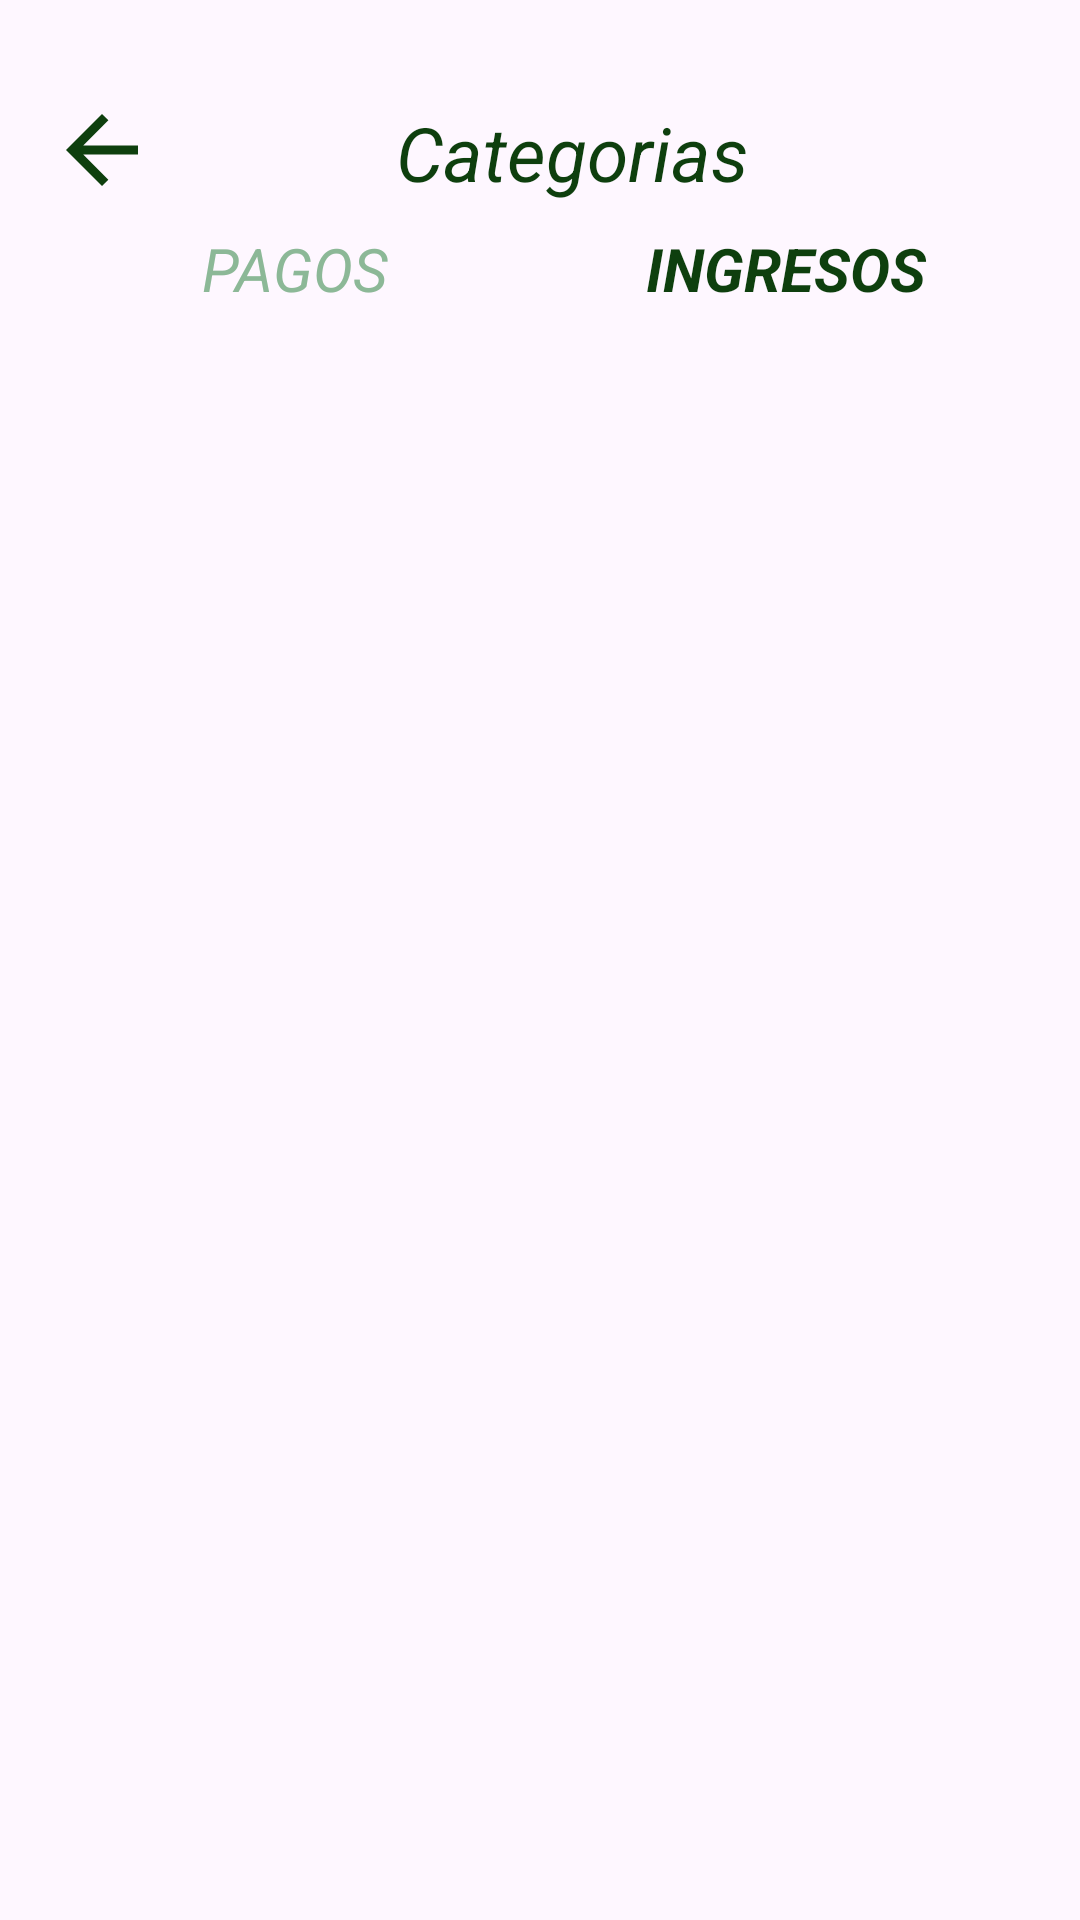

Named icons in this screenshot (1080×1920) and their bounding boxes, [x1=x1, y1=y1, x2=x2, y2=y2]:
arrow back: [x1=66, y1=114, x2=138, y2=186]
